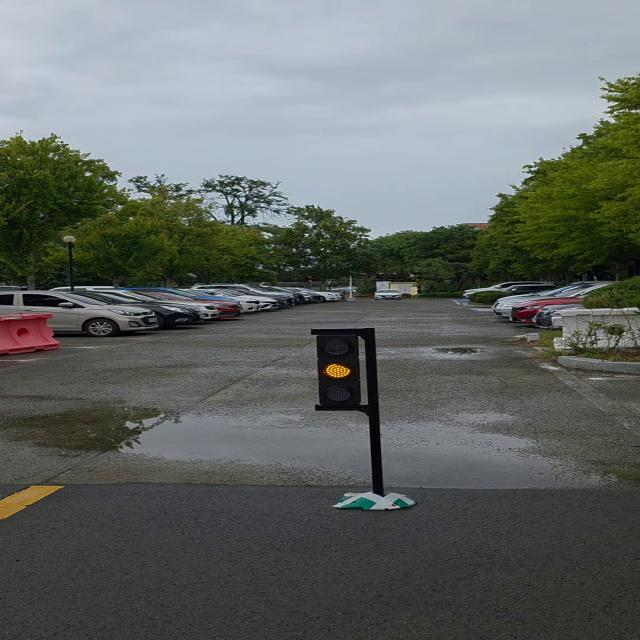yellow: (311, 331, 373, 410)
